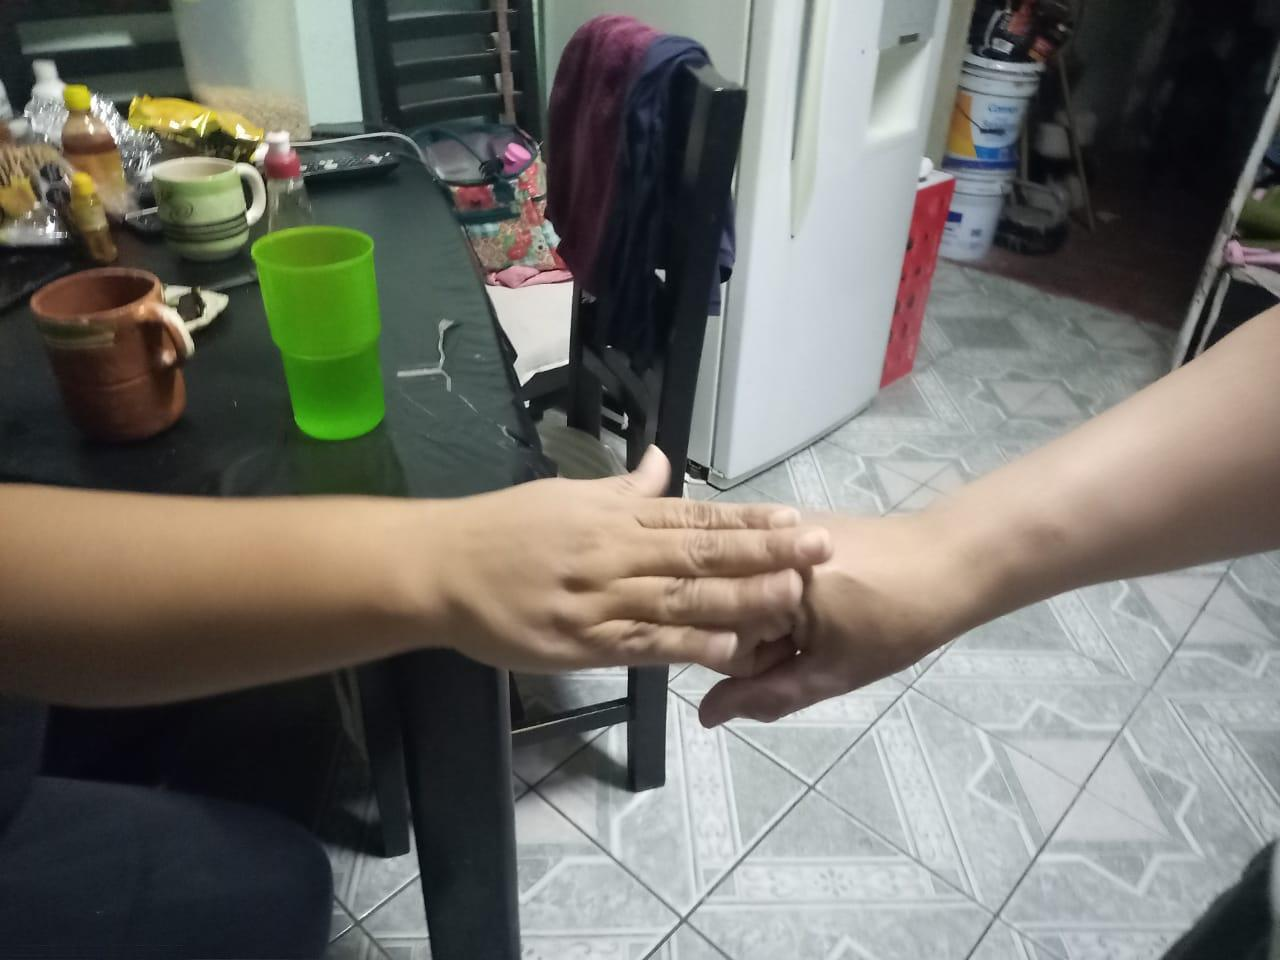Paper: (329, 454, 840, 674)
Stone: (680, 486, 1026, 694)
